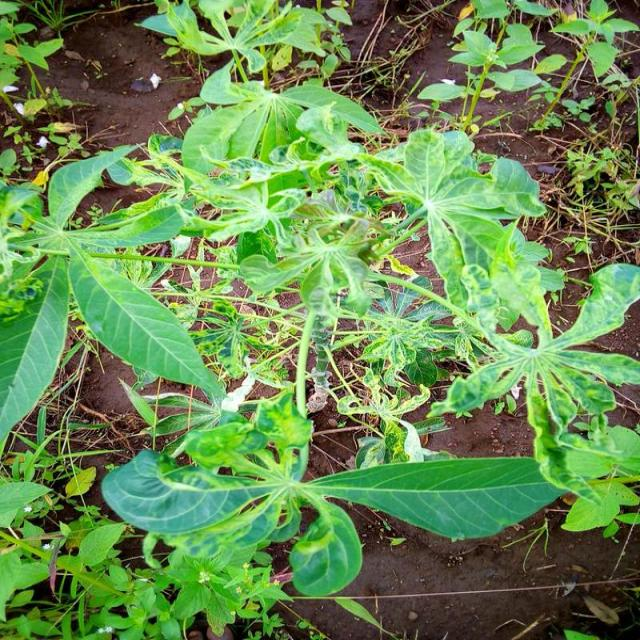cassava leaf: (101, 387, 570, 596), (68, 238, 229, 408)
